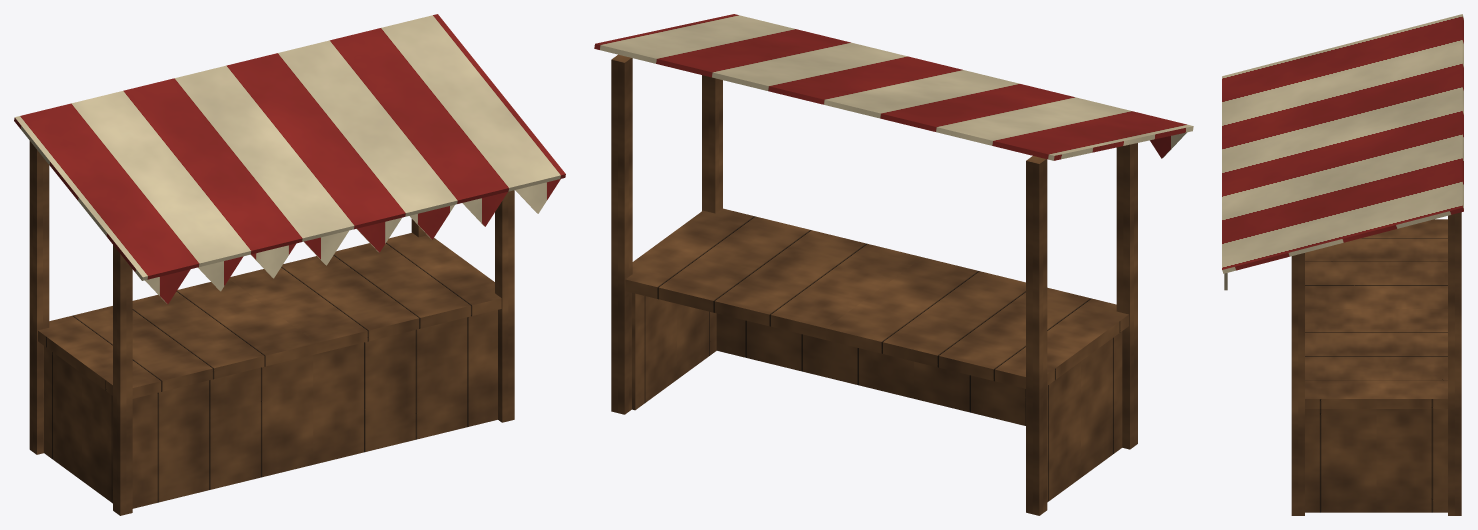
The model's file is MarketStall.gltf.
3 renders of one model, left to right at view 1: azimuth 30°, elevation 25°; view 2: azimuth 150°, elevation 25°; view 3: azimuth 270°, elevation 25°, orthographic. The views are drawn at different scales.
Visible parts, largest first — view 1: MarketStall; view 2: MarketStall; view 3: MarketStall.
Boxes of the visible parts, x1,y1,x2,y2 form: MarketStall: (14,14,565,515); MarketStall: (594,14,1193,515); MarketStall: (1222,14,1463,515).
Bounding box in the file's own units: 4.1 × 3.11 × 2.16.
Materials: 2 (2 with a texture image).
